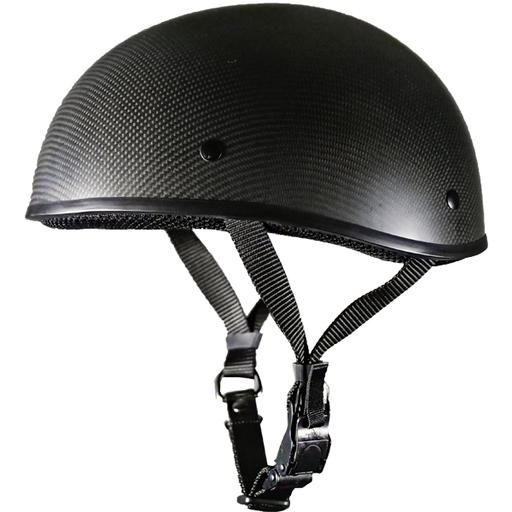with_helmet: (22, 2, 506, 512)
